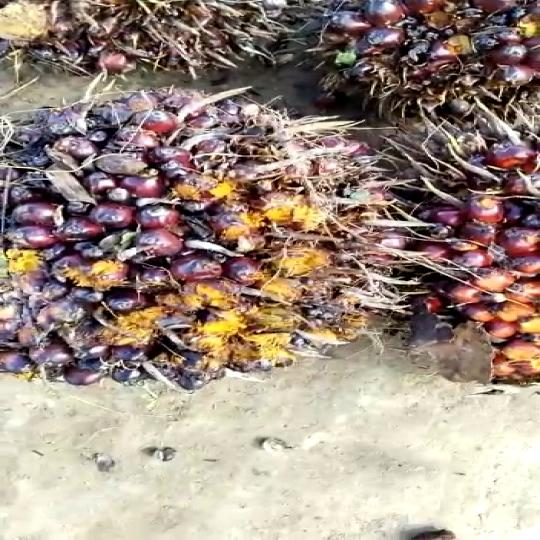masak: (0, 84, 417, 388)
